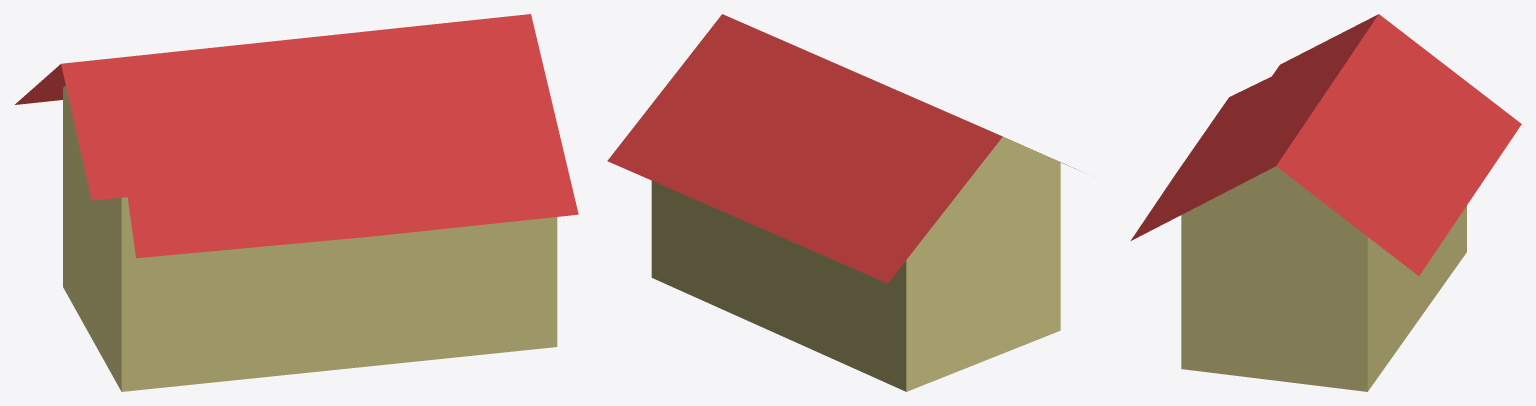
The picture shows the model from 3 angles, left to right: view 1: azimuth 30°, elevation 25°; view 2: azimuth 150°, elevation 25°; view 3: azimuth 270°, elevation 25°; orthographic projection. The views are drawn at different scales.
Size of the model in its own units: 26.49 by 24.1 by 14.67.
